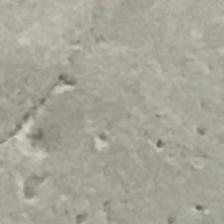Non_Crack: (16, 10, 205, 212)
